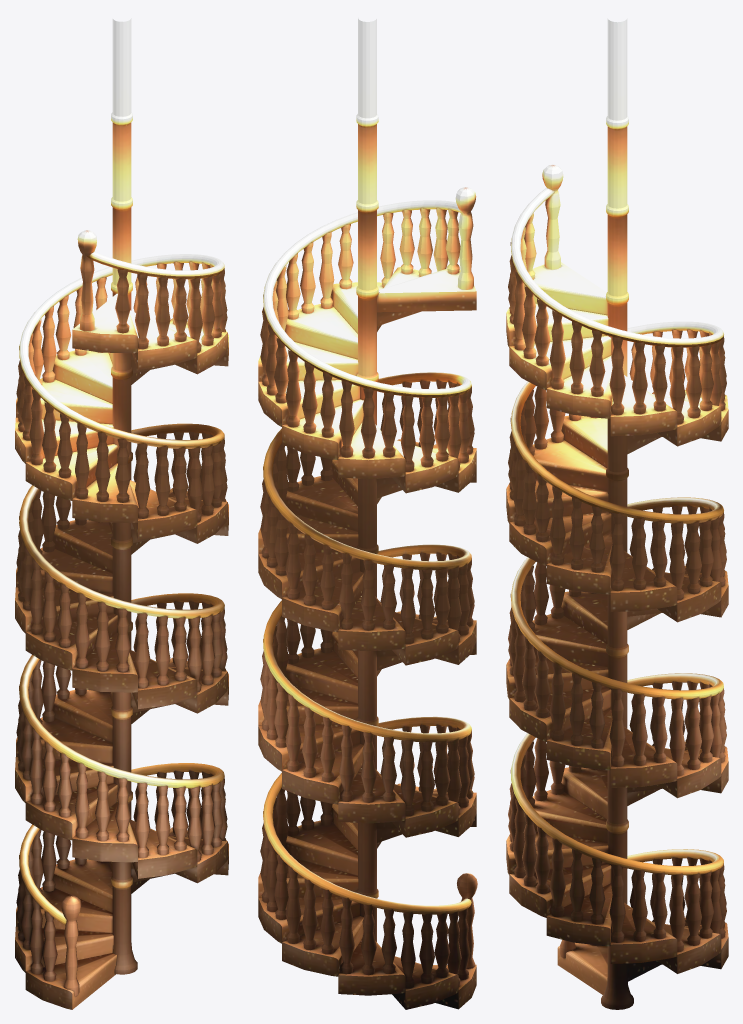
File: stairup.glb
The picture shows the model from 3 angles, left to right: view 1: azimuth 30°, elevation 25°; view 2: azimuth 150°, elevation 25°; view 3: azimuth 270°, elevation 25°; orthographic projection. The views are drawn at different scales.
Visible parts, largest first — view 1: stairup; view 2: stairup; view 3: stairup.
Boxes of the visible parts, x1=… form: stairup: x1=15, y1=18, x2=228, y2=1009; stairup: x1=258, y1=18, x2=477, y2=1009; stairup: x1=506, y1=18, x2=728, y2=1009.
Size of the model in its own units: 2.3 by 11.22 by 2.3.
Materials: 1 (1 with a texture image).
